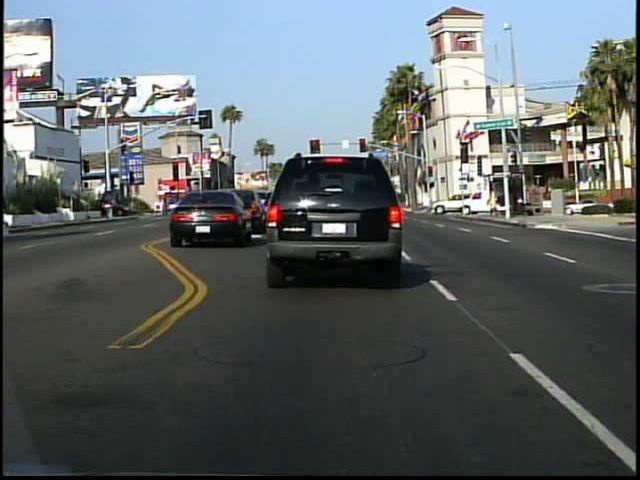person: (486, 185, 501, 219)
